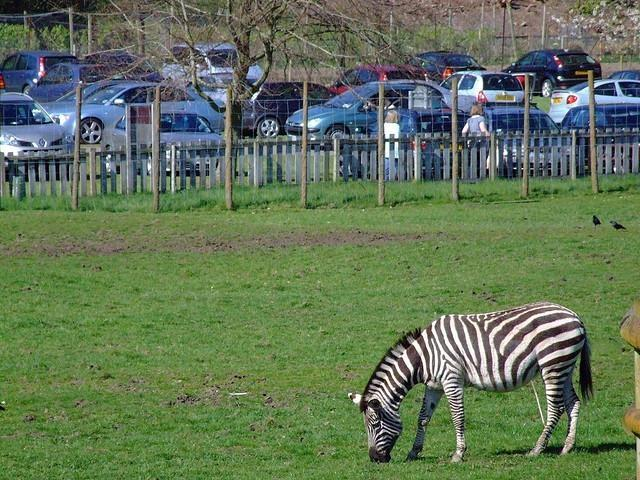car: (286, 77, 478, 144), (39, 78, 231, 144), (484, 107, 578, 177), (162, 43, 268, 102), (231, 80, 334, 139), (0, 93, 78, 156), (28, 62, 124, 106), (548, 80, 640, 123), (328, 63, 452, 94), (1, 50, 84, 94), (443, 70, 538, 108), (364, 107, 472, 136), (558, 104, 640, 129)
